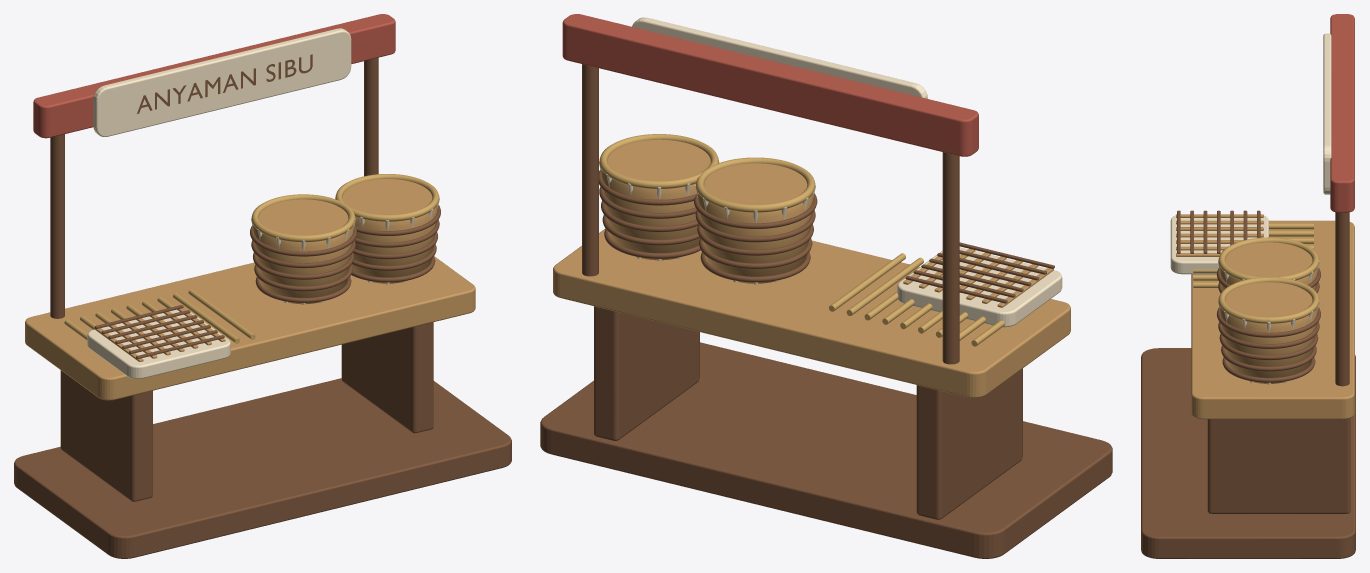
3 views of the same model, side by side, from view 1: azimuth 30°, elevation 25°; view 2: azimuth 150°, elevation 25°; view 3: azimuth 270°, elevation 25° (orthographic). The views are drawn at different scales.
Parts seen in each view (by area): view 1: Sibu | Rattan Weaving Bench - Cabinetry, Sibu | Rattan Weaving Bench - Structure, Sibu | Rattan Weaving Bench - Turned fittings, Sibu | Rattan Weaving Bench - Graphics, Sibu | Rattan Weaving Bench - Metalwork; view 2: Sibu | Rattan Weaving Bench - Cabinetry, Sibu | Rattan Weaving Bench - Structure, Sibu | Rattan Weaving Bench - Turned fittings, Sibu | Rattan Weaving Bench - Metalwork, Sibu | Rattan Weaving Bench - Graphics; view 3: Sibu | Rattan Weaving Bench - Cabinetry, Sibu | Rattan Weaving Bench - Structure, Sibu | Rattan Weaving Bench - Turned fittings, Sibu | Rattan Weaving Bench - Metalwork, Sibu | Rattan Weaving Bench - Graphics.
Part boxes in pixels (x1=…): Sibu | Rattan Weaving Bench - Cabinetry: x1=14, y1=14, x2=511, y2=558; Sibu | Rattan Weaving Bench - Structure: x1=60, y1=305, x2=433, y2=501; Sibu | Rattan Weaving Bench - Turned fittings: x1=250, y1=174, x2=440, y2=304; Sibu | Rattan Weaving Bench - Graphics: x1=93, y1=28, x2=351, y2=136; Sibu | Rattan Weaving Bench - Metalwork: x1=50, y1=57, x2=439, y2=343; Sibu | Rattan Weaving Bench - Cabinetry: x1=540, y1=14, x2=1112, y2=558; Sibu | Rattan Weaving Bench - Structure: x1=594, y1=242, x2=1054, y2=519; Sibu | Rattan Weaving Bench - Turned fittings: x1=599, y1=134, x2=817, y2=283; Sibu | Rattan Weaving Bench - Metalwork: x1=582, y1=64, x2=1005, y2=364; Sibu | Rattan Weaving Bench - Graphics: x1=632, y1=17, x2=927, y2=98; Sibu | Rattan Weaving Bench - Cabinetry: x1=1141, y1=14, x2=1355, y2=558; Sibu | Rattan Weaving Bench - Structure: x1=1176, y1=210, x2=1350, y2=513; Sibu | Rattan Weaving Bench - Turned fittings: x1=1216, y1=237, x2=1320, y2=383; Sibu | Rattan Weaving Bench - Metalwork: x1=1193, y1=212, x2=1349, y2=386; Sibu | Rattan Weaving Bench - Graphics: x1=1323, y1=33, x2=1331, y2=194.
Size of the model in its own units: 2.2 by 2.02 by 1.05.
